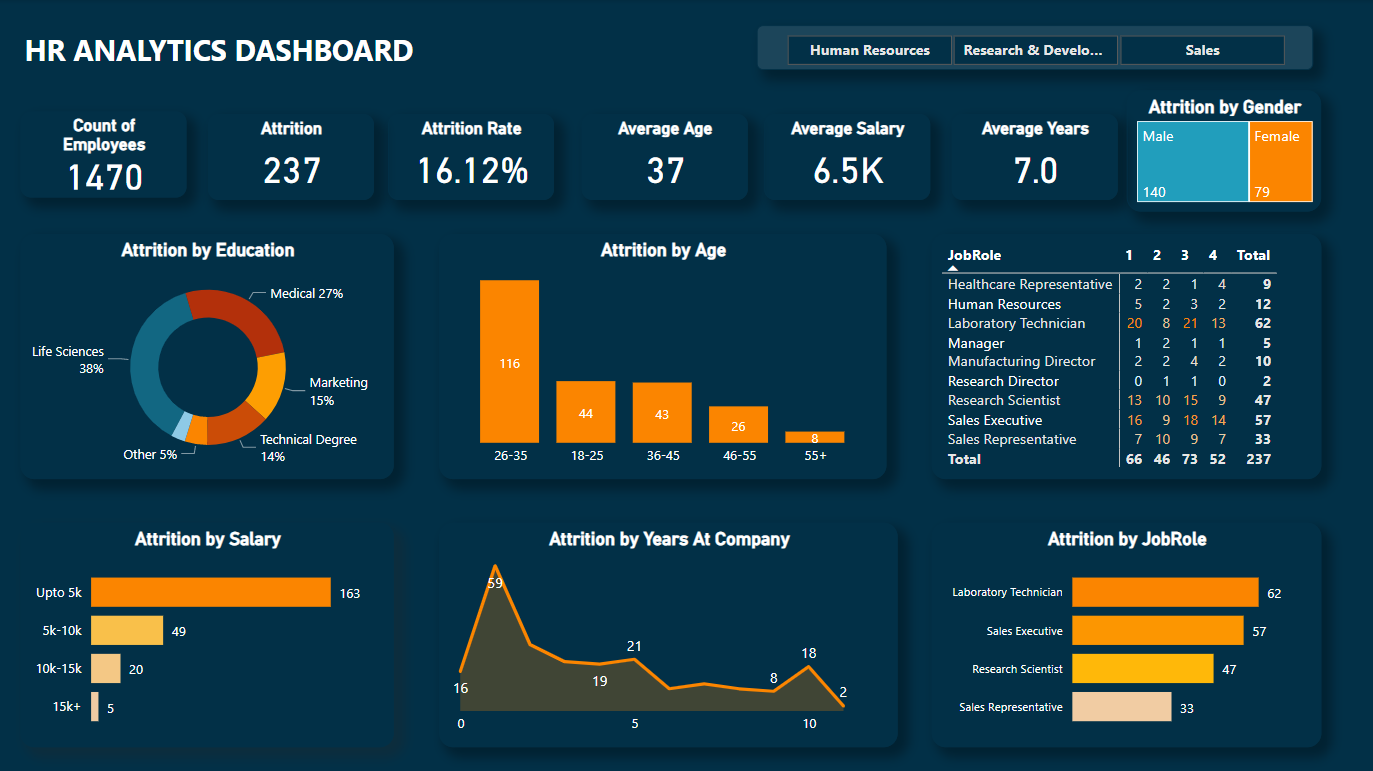

Layout of this report page (visuals, bound fields, positions):
{"tool":"powerbi","page":{"name":"HR Dashboard ","canvas":[1280,720],"ordinal":0},"visuals":[{"type":"card","title":"Count of Employees ","fields":{"Values":["Count(HR_Analytics.EmpID)"]},"box":[20.6,104.6,154,80],"z":0},{"type":"card","title":"Attrition","fields":{"Values":["Sum(HR_Analytics.AttritionCount)"]},"box":[195.7,106.8,154,80],"z":1000},{"type":"card","title":"Attrition Rate","fields":{"Values":["HR_Analytics.AttritionRate"]},"box":[363.1,106.8,154,80],"z":2000},{"type":"card","title":"Average Age ","fields":{"Values":["Avg(HR_Analytics.Age)"]},"box":[542.8,106.8,154,80],"z":3000},{"type":"card","title":"Average Salary ","fields":{"Values":["Avg(HR_Analytics.MonthlyIncome)"]},"box":[713,106.8,154,80],"z":4000},{"type":"card","title":"Average Years","fields":{"Values":["Avg(HR_Analytics.YearsAtCompany)"]},"box":[887.3,106.8,154,80],"z":5000},{"type":"donutChart","title":"Attrition by Education","fields":{"Category":["HR_Analytics.EducationField"],"Y":["Sum(HR_Analytics.AttritionCount)"]},"box":[20.6,218.2,347.2,227.8],"z":6000},{"type":"columnChart","title":"Attrition by Age","fields":{"Category":["HR_Analytics.AgeGroup"],"Y":["Sum(HR_Analytics.AttritionCount)"]},"box":[410.3,218.2,415.8,227.8],"z":7000},{"type":"pivotTable","title":"Job Satisfaction and Attrition by Job Role","fields":{"Rows":["HR_Analytics.JobRole"],"Values":["Sum(HR_Analytics.AttritionCount)"],"Columns":["HR_Analytics.JobSatisfaction"]},"box":[916.8,218.6,363.6,249.7],"z":8000},{"type":"barChart","title":"Attrition by Salary","fields":{"Y":["Sum(HR_Analytics.AttritionCount)"],"Category":["HR_Analytics.SalarySlab"]},"box":[20.6,487.1,347.2,208.6],"z":9000},{"type":"barChart","title":"Attrition by JobRole","fields":{"Y":["Sum(HR_Analytics.AttritionCount)"],"Category":["HR_Analytics.JobRole"]},"box":[868.6,487.1,362.3,208.6],"z":10000},{"type":"areaChart","title":"Attrition by Years At Company","fields":{"Category":["HR_Analytics.YearsAtCompany"],"Y":["Sum(HR_Analytics.AttritionCount)"]},"box":[410.3,487.1,426.8,208.6],"z":11000},{"type":"treemap","title":"Attrition by Gender","fields":{"Group":["HR_Analytics.Gender"],"Values":["Sum(HR_Analytics.AttritionCount)"]},"box":[1049.7,85.1,181.1,112.5],"z":12000},{"type":"slicer","fields":{"Values":["HR_Analytics.Department"]},"box":[705.5,24.6,518,41.3],"z":13000},{"type":"textbox","box":[20.1,24.6,420.8,51.3],"z":14000},{"type":"actionButton","box":[1231.4,9.3,45.3,29.1],"z":14001}]}

Visuals, with their boxes in screenshot pixels (x1, y1, x2, y2), scaled from the page's 1280x720 canvas onto the 1373x771 screenshot:
"Count of Employees " card: Rect(22, 112, 187, 198)
"Attrition" card: Rect(210, 114, 375, 200)
"Attrition Rate" card: Rect(389, 114, 555, 200)
"Average Age " card: Rect(582, 114, 747, 200)
"Average Salary " card: Rect(765, 114, 930, 200)
"Average Years" card: Rect(952, 114, 1117, 200)
"Attrition by Education" donutChart: Rect(22, 234, 395, 478)
"Attrition by Age" columnChart: Rect(440, 234, 886, 478)
"Job Satisfaction and Attrition by Job Role" pivotTable: Rect(983, 234, 1372, 501)
"Attrition by Salary" barChart: Rect(22, 522, 395, 745)
"Attrition by JobRole" barChart: Rect(932, 522, 1320, 745)
"Attrition by Years At Company" areaChart: Rect(440, 522, 898, 745)
"Attrition by Gender" treemap: Rect(1126, 91, 1320, 212)
slicer - HR_Analytics.Department: Rect(757, 26, 1312, 71)
textbox: Rect(22, 26, 473, 81)
actionButton: Rect(1321, 10, 1369, 41)
